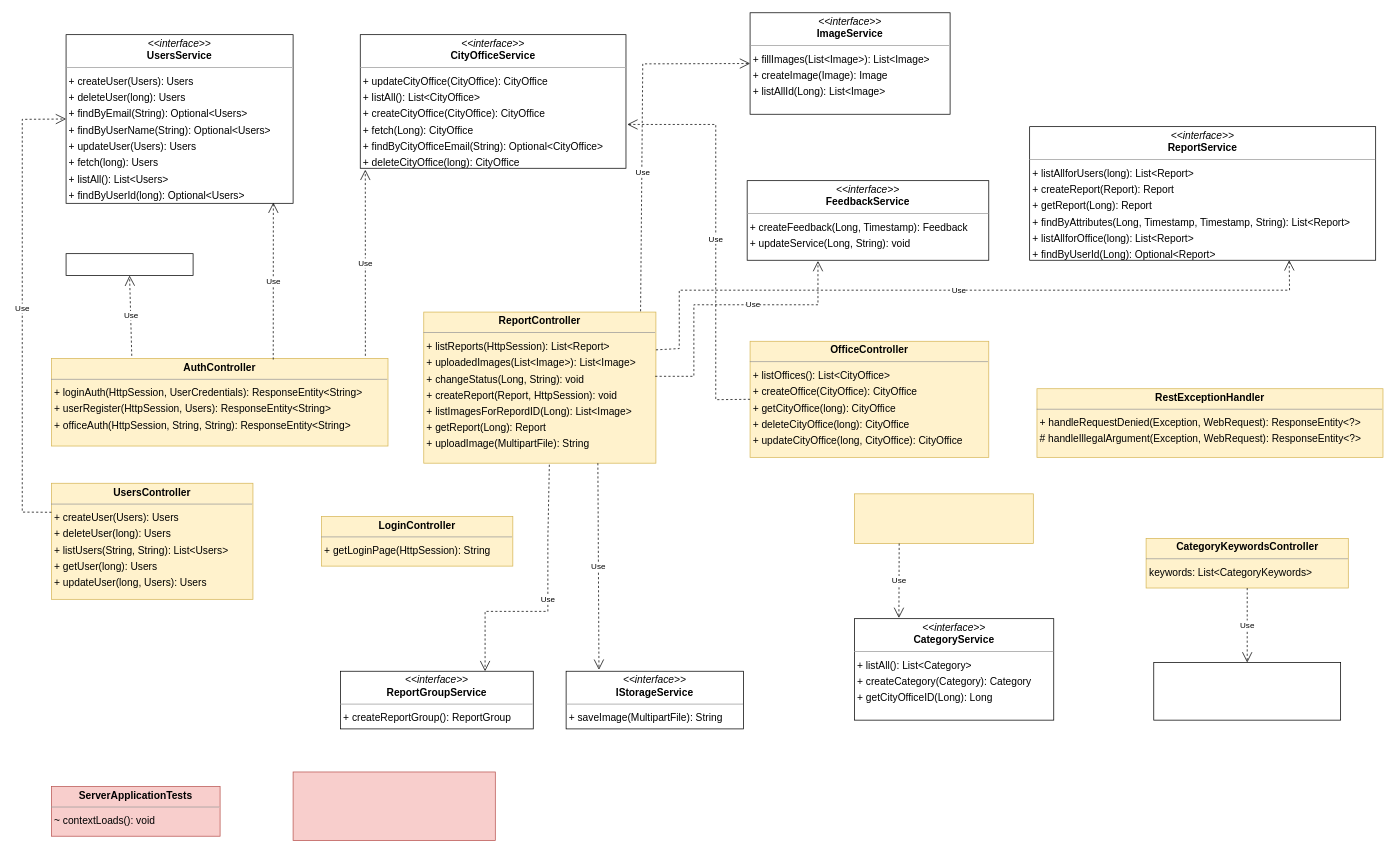
Some shapes in this 1396 by 853 pixel diagram are drawn without their labels. The centre of each missing label's shape, as x and y in pixels:
"<<interface>> CategoryKeywordsService + listAll(): List<CategoryKeywords>" goes at [1247,691].
"CategoryController + listCategories(): List<Category>" goes at [943,518].
"ServerApplication + corsConfigurer(): WebMvcConfigurer + main(String[]): void" goes at [393,806].
"UserCredentials" goes at [129,264].
